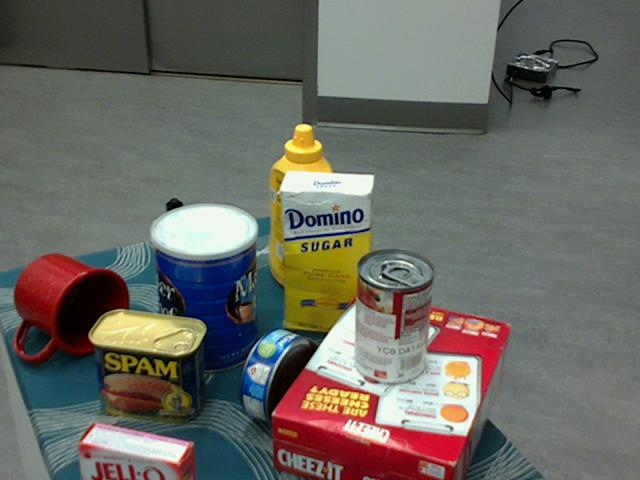cracker_box: (271, 292, 510, 479)
gelatin_box: (75, 420, 191, 479)
large_marker: (166, 197, 186, 296)
master_chef_can: (150, 203, 257, 374)
mug: (13, 252, 129, 361)
mustard_bottle: (269, 123, 334, 298)
potted_meat_can: (88, 307, 205, 421)
sugar_box: (280, 169, 375, 337)
tomato_soup_can: (352, 250, 434, 386)
tuna_fish_can: (239, 329, 319, 427)
